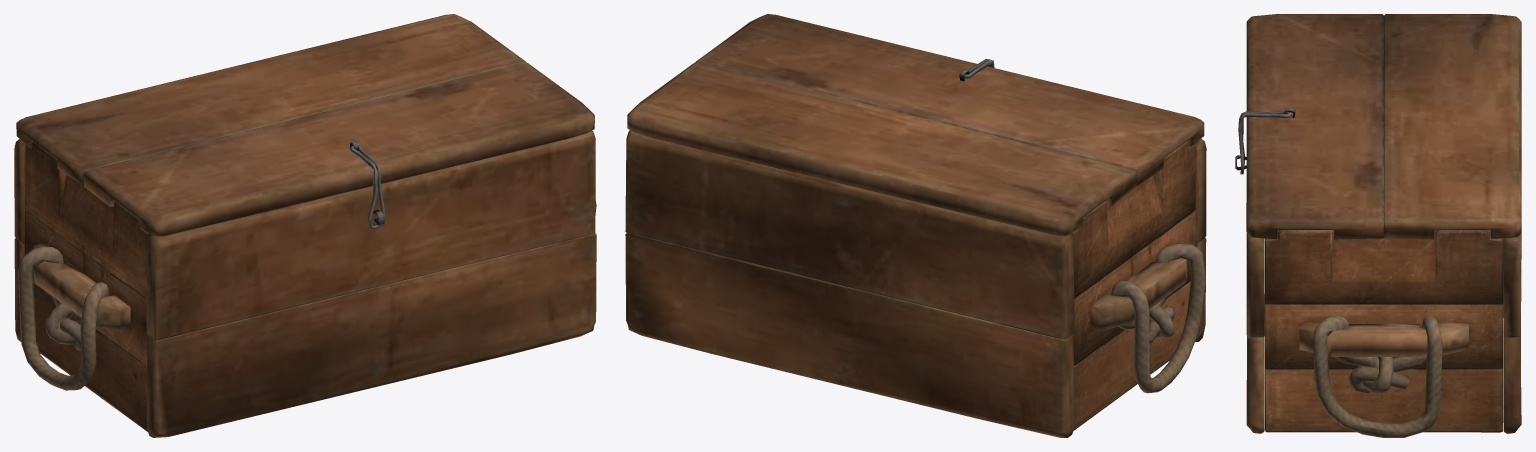
The model's file is wooden_crate_01.glb.
The picture shows the model from 3 angles, left to right: view 1: azimuth 30°, elevation 25°; view 2: azimuth 150°, elevation 25°; view 3: azimuth 270°, elevation 25°; orthographic projection. The views are drawn at different scales.
Visible parts, largest first — view 1: wooden_crate_01_lid; view 2: wooden_crate_01_lid; view 3: wooden_crate_01_lid.
Part boxes in pixels (left/top/right/bottom): wooden_crate_01_lid: left=14, top=14, right=596, bottom=437; wooden_crate_01_lid: left=625, top=14, right=1206, bottom=437; wooden_crate_01_lid: left=1235, top=14, right=1521, bottom=437.
Bounding box in the file's own units: 0.8245 × 0.3485 × 0.4073.
Materials: 1 (1 with a texture image).
